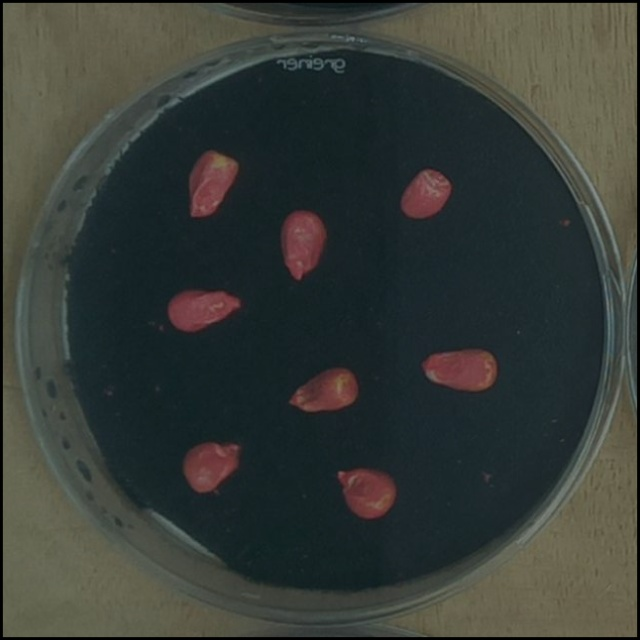Zea mays: (412, 339, 507, 399), (278, 358, 365, 421), (157, 281, 248, 338), (182, 142, 244, 225), (176, 432, 250, 501), (327, 459, 403, 525), (273, 202, 331, 286), (392, 160, 457, 227)
